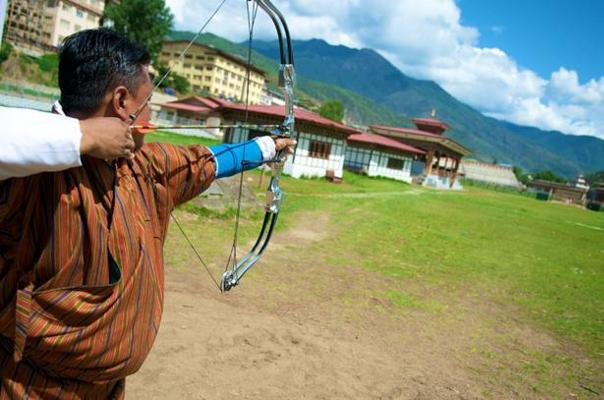person: (1, 27, 300, 400)
